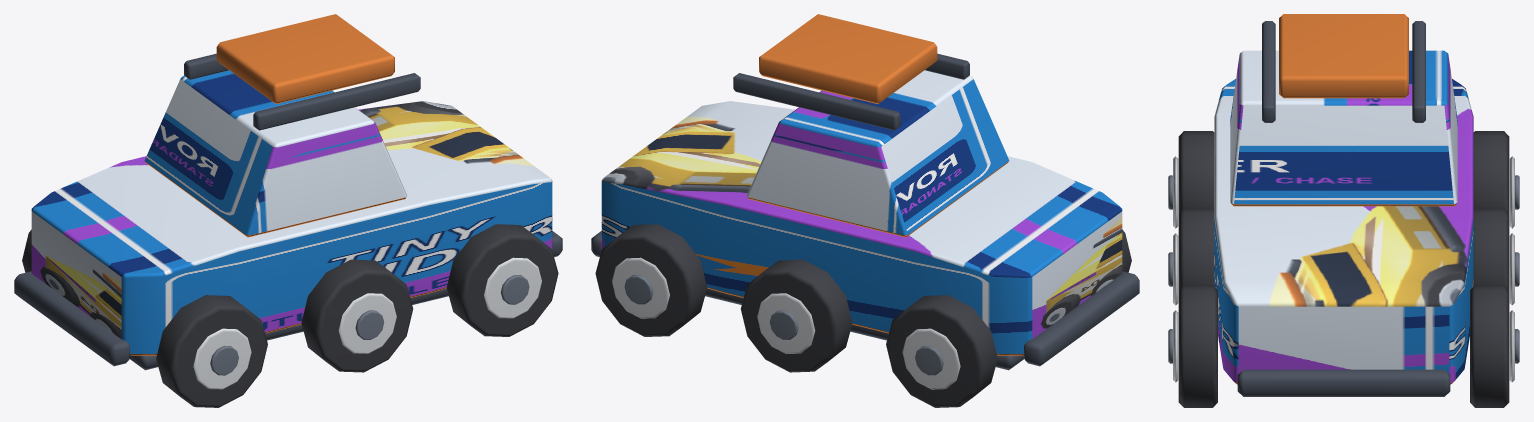
3 views of the same model, side by side, from view 1: azimuth 30°, elevation 25°; view 2: azimuth 150°, elevation 25°; view 3: azimuth 270°, elevation 25° (orthographic). The views are drawn at different scales.
Visible parts, largest first — view 1: FF-04_connected_shell, FF-04_cabin, utility load, Tire, Tire.002, Tire.004, front bumper, utility rail, Rim, Rim.004, Rim.002, underbody (+4 smaller); view 2: FF-04_connected_shell, FF-04_cabin, utility load, Tire.001, Tire.003, Tire.005, front bumper, utility rail.001, Rim.001, Rim.005, Rim.003, underbody (+4 smaller); view 3: FF-04_connected_shell, FF-04_cabin, utility load, rear bumper, Tire.004, Tire.005, Tire.002, Tire.003, Tire, Tire.001, utility rail, utility rail.001 (+6 smaller).
Part boxes in pixels (x1=…): FF-04_connected_shell: x1=31, y1=101, x2=552, y2=355; FF-04_cabin: x1=144, y1=70, x2=406, y2=237; utility load: x1=216, y1=14, x2=394, y2=103; Tire: x1=156, y1=295, x2=267, y2=407; Tire.002: x1=301, y1=259, x2=413, y2=372; Tire.004: x1=446, y1=224, x2=558, y2=336; front bumper: x1=14, y1=271, x2=130, y2=366; utility rail: x1=253, y1=73, x2=420, y2=130; Rim: x1=193, y1=328, x2=251, y2=389; Rim.004: x1=484, y1=257, x2=541, y2=318; Rim.002: x1=338, y1=293, x2=396, y2=353; underbody: x1=130, y1=288, x2=448, y2=370; FF-04_connected_shell: x1=601, y1=101, x2=1122, y2=355; FF-04_cabin: x1=747, y1=70, x2=1009, y2=237; utility load: x1=759, y1=14, x2=937, y2=103; Tire.001: x1=886, y1=295, x2=997, y2=407; Tire.003: x1=740, y1=259, x2=852, y2=372; Tire.005: x1=595, y1=224, x2=707, y2=336; front bumper: x1=1023, y1=271, x2=1139, y2=366; utility rail.001: x1=733, y1=73, x2=900, y2=130; Rim.001: x1=902, y1=328, x2=960, y2=389; Rim.005: x1=612, y1=257, x2=669, y2=318; Rim.003: x1=757, y1=293, x2=815, y2=353; underbody: x1=705, y1=288, x2=1023, y2=370; FF-04_connected_shell: x1=1214, y1=79, x2=1473, y2=384; FF-04_cabin: x1=1230, y1=50, x2=1457, y2=206; utility load: x1=1279, y1=14, x2=1408, y2=98; rear bumper: x1=1237, y1=369, x2=1450, y2=396; Tire.004: x1=1178, y1=284, x2=1217, y2=407; Tire.005: x1=1470, y1=284, x2=1509, y2=407; Tire.002: x1=1178, y1=207, x2=1214, y2=289; Tire.003: x1=1473, y1=207, x2=1509, y2=289; Tire: x1=1178, y1=131, x2=1214, y2=212; Tire.001: x1=1473, y1=131, x2=1509, y2=212; utility rail: x1=1262, y1=21, x2=1275, y2=122; utility rail.001: x1=1412, y1=21, x2=1425, y2=122.
Bounding box in the file's own units: 378 × 212 × 233.
